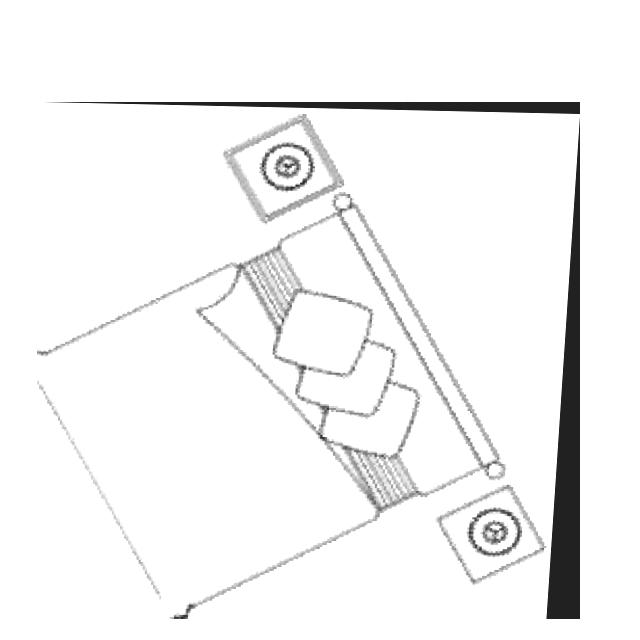bed: (37, 102, 580, 619)
